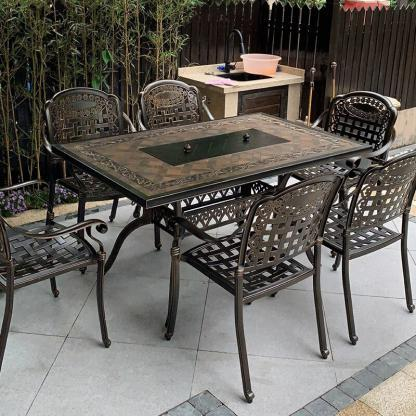table: (35, 106, 377, 346)
